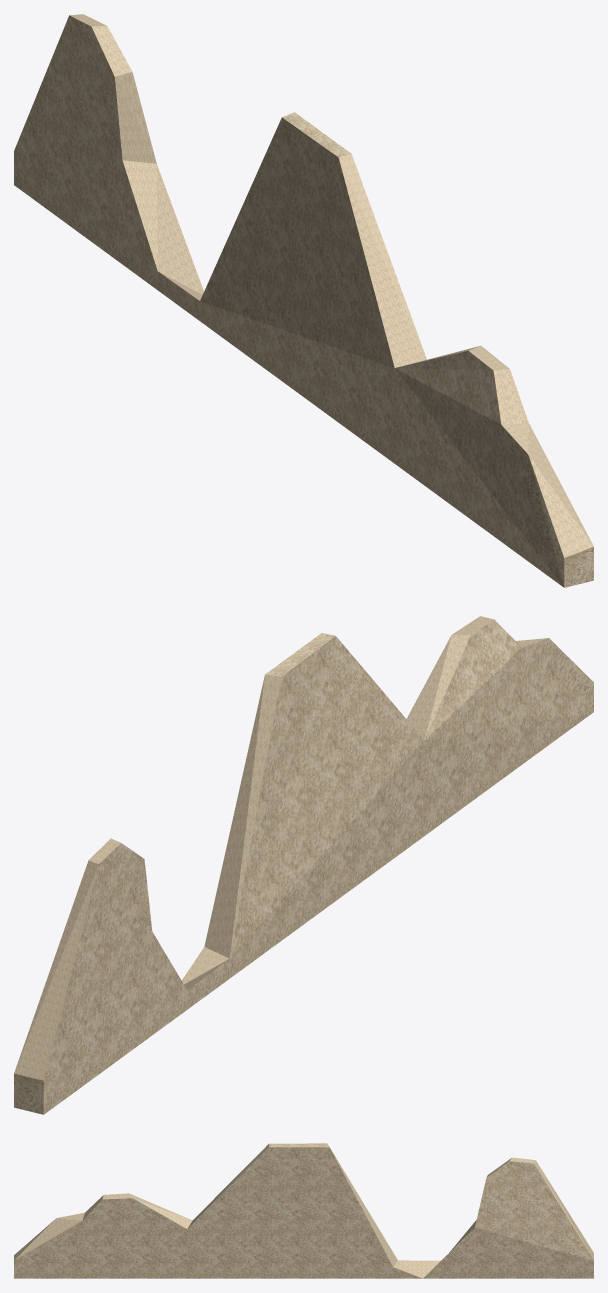
The model's file is thm_tato_imprv_wall_ruin_s01_l3.fbx.
3 renders of one model, top to bottom at view 1: azimuth 30°, elevation 25°; view 2: azimuth 150°, elevation 25°; view 3: azimuth 270°, elevation 25°, orthographic. The views are drawn at different scales.
Parts seen in each view (by area): view 1: mesh_node; view 2: mesh_node; view 3: mesh_node.
Boxes of the visible parts, x1,y1,x2,y2 form: mesh_node: (14, 14, 593, 587); mesh_node: (14, 616, 593, 1114); mesh_node: (14, 1143, 593, 1278).
Bounding box in the file's own units: 0.5 × 4 × 16.
